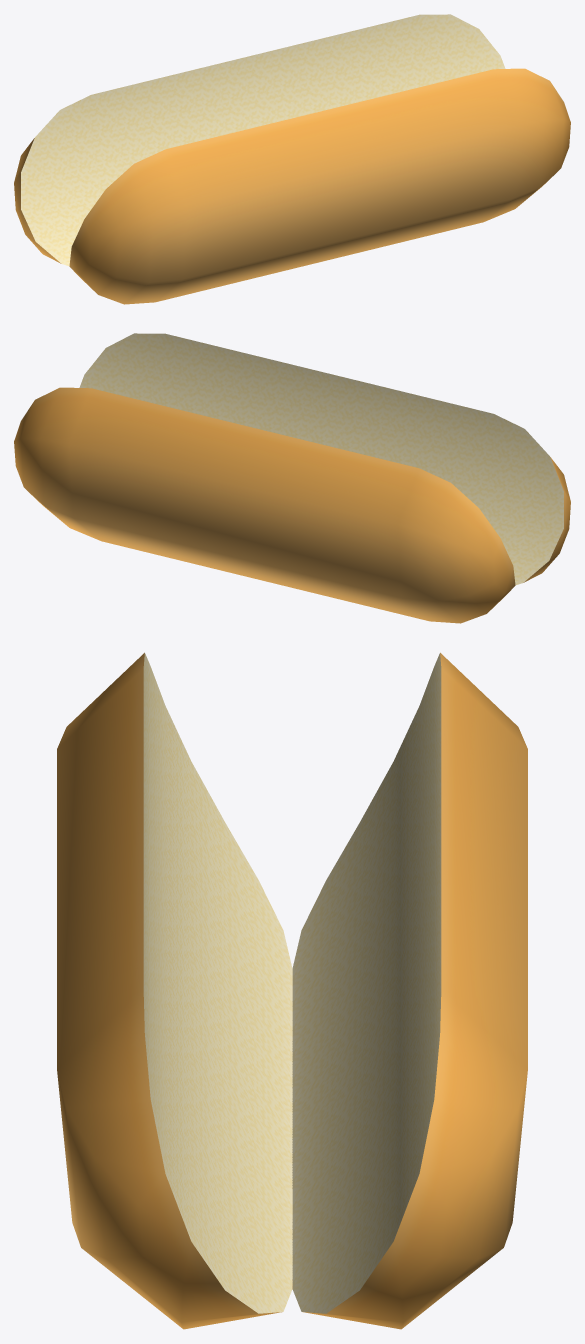
File: fff_hotdog_bun.FBX
The picture shows the model from 3 angles, top to bottom: view 1: azimuth 30°, elevation 25°; view 2: azimuth 150°, elevation 25°; view 3: azimuth 270°, elevation 25°; orthographic projection. The views are drawn at different scales.
Visible parts, largest first — view 1: fff_hotdog_bun; view 2: fff_hotdog_bun; view 3: fff_hotdog_bun.
Boxes of the visible parts, box(x1,y1,x2,y2) form: fff_hotdog_bun: box(14, 14, 570, 304); fff_hotdog_bun: box(14, 333, 570, 623); fff_hotdog_bun: box(57, 652, 527, 1329).
Bounding box in the file's own units: 9.46 × 2.95 × 3.92.
